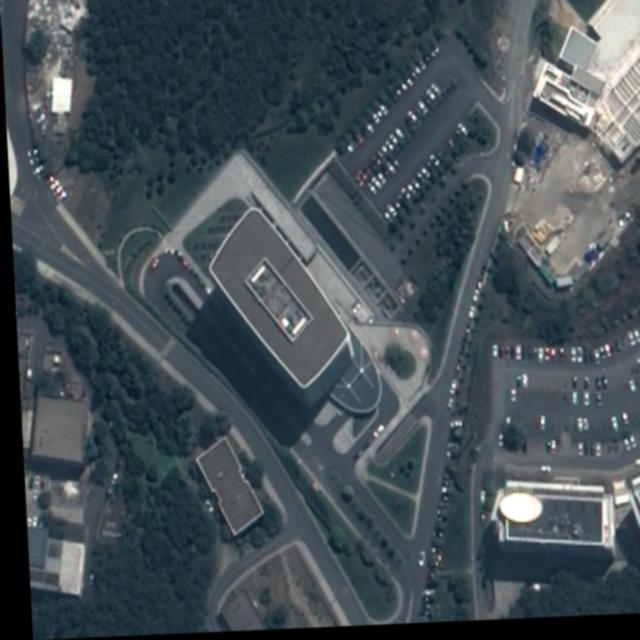Batiment: (206, 210, 346, 391), (500, 485, 605, 551), (192, 440, 257, 538), (22, 527, 78, 596), (27, 397, 84, 463), (626, 479, 640, 548)
